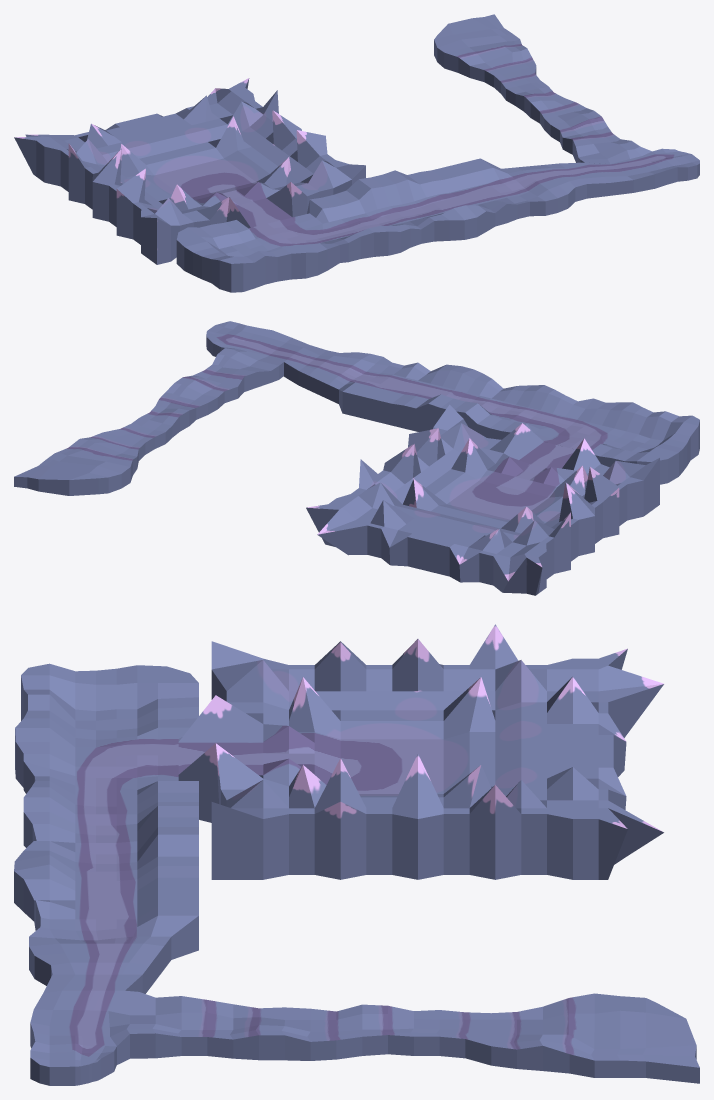
Rendered from A2_Ground_03.fbx.
The picture shows the model from 3 angles, top to bottom: view 1: azimuth 30°, elevation 25°; view 2: azimuth 150°, elevation 25°; view 3: azimuth 270°, elevation 25°; orthographic projection. The views are drawn at different scales.
Parts seen in each view (by area): view 1: A3_Ground01, A2_Ground01.002, A2_Ground01.003; view 2: A3_Ground01, A2_Ground01.002, A2_Ground01.003; view 3: A3_Ground01, A2_Ground01.002, A2_Ground01.003.
Part boxes in pixels (box(x1,y1,x2,y2)): A3_Ground01: box(14, 78, 365, 264); A2_Ground01.002: box(176, 148, 699, 292); A2_Ground01.003: box(434, 14, 651, 163); A3_Ground01: box(306, 404, 659, 595); A2_Ground01.002: box(206, 321, 699, 484); A2_Ground01.003: box(14, 347, 283, 495); A3_Ground01: box(178, 624, 663, 879); A2_Ground01.002: box(14, 663, 198, 1085); A2_Ground01.003: box(108, 990, 699, 1083).
Size of the model in its own units: 3628 by 442 by 2658.
Materials: 3 (3 with a texture image).
